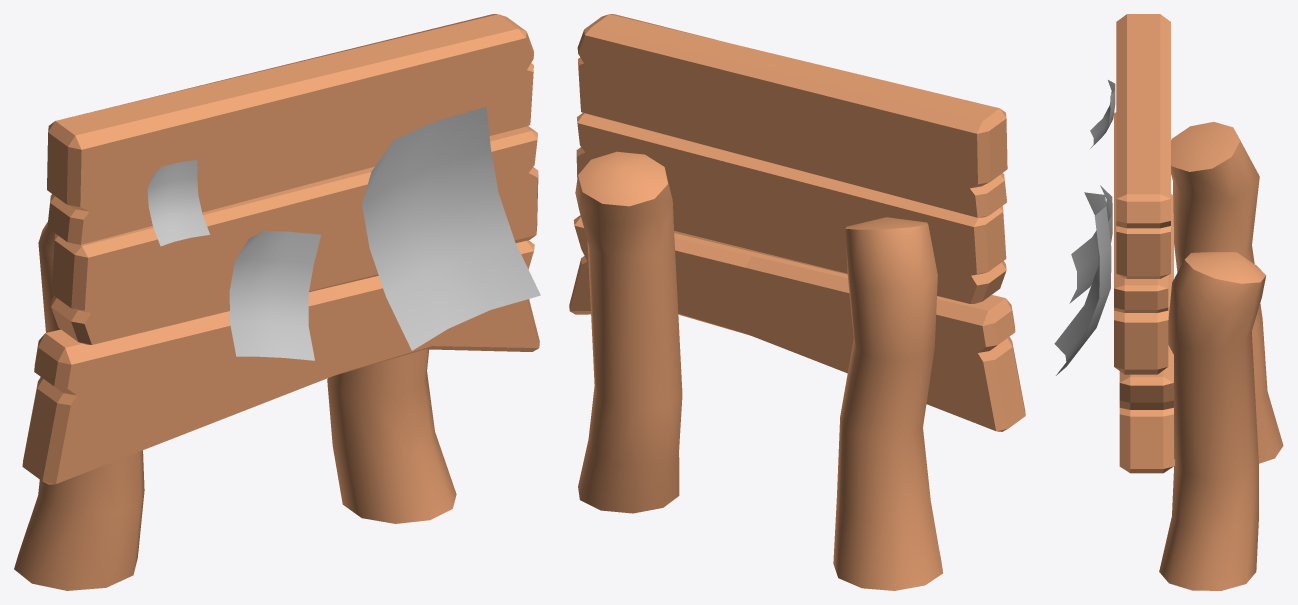
Rendered from message_board.fbx.
The picture shows the model from 3 angles, left to right: view 1: azimuth 30°, elevation 25°; view 2: azimuth 150°, elevation 25°; view 3: azimuth 270°, elevation 25°; orthographic projection. The views are drawn at different scales.
Parts seen in each view (by area): view 1: message_board; view 2: message_board; view 3: message_board.
Boxes of the visible parts, box(x1,y1,x2,y2) form: message_board: box(14, 14, 540, 590); message_board: box(569, 14, 1025, 590); message_board: box(1054, 14, 1283, 590).
Bounding box in the file's own units: 9.41 × 8.86 × 4.52.
